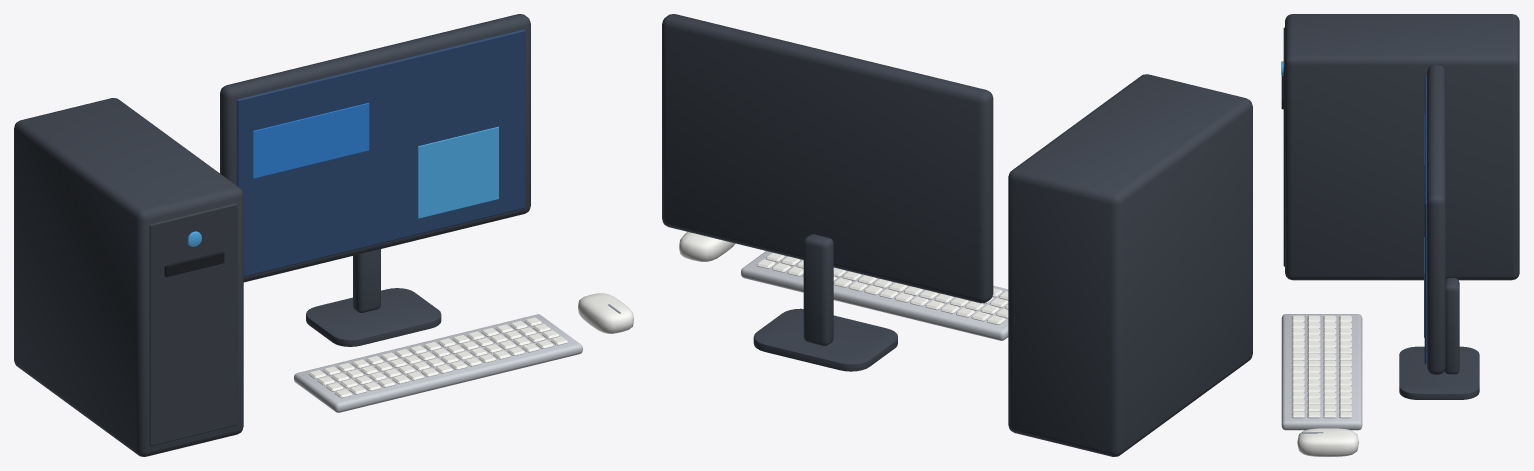
Rendered from computador_mesa.glb.
The picture shows the model from 3 angles, left to right: view 1: azimuth 30°, elevation 25°; view 2: azimuth 150°, elevation 25°; view 3: azimuth 270°, elevation 25°; orthographic projection. The views are drawn at different scales.
Visible parts, largest first — view 1: computador_mesa; view 2: computador_mesa; view 3: computador_mesa.
Part boxes in pixels (x1,y1,x2,y2): computador_mesa: (14,14,633,456); computador_mesa: (662,14,1252,456); computador_mesa: (1281,14,1519,456).
Size of the model in its own units: 0.86 by 0.44 by 0.386.
Materials: 1 (1 with a texture image).
